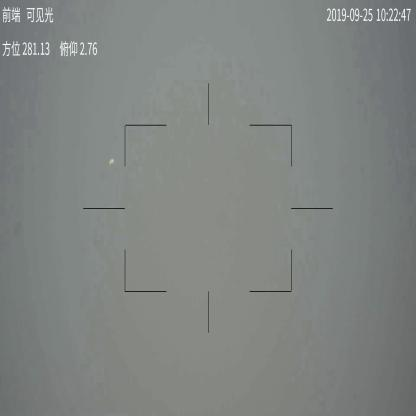uav: (108, 158, 116, 167)
